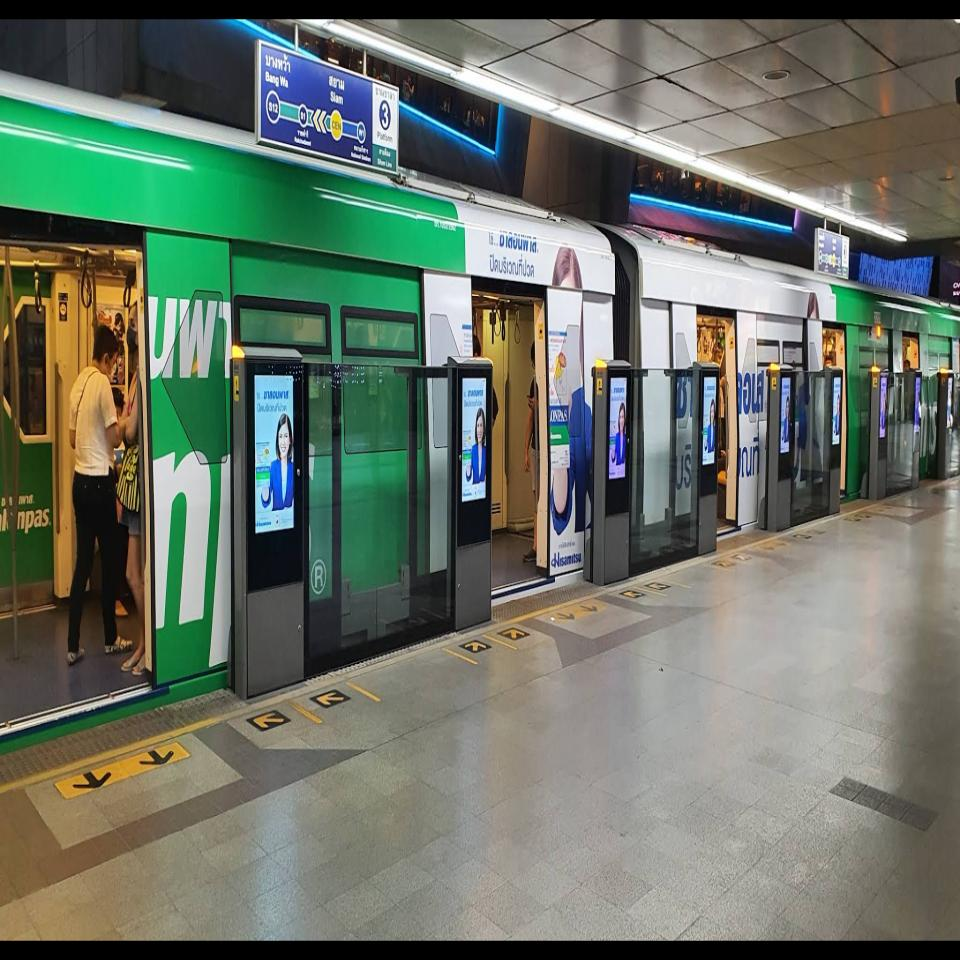Siam: (299, 74, 366, 144)
